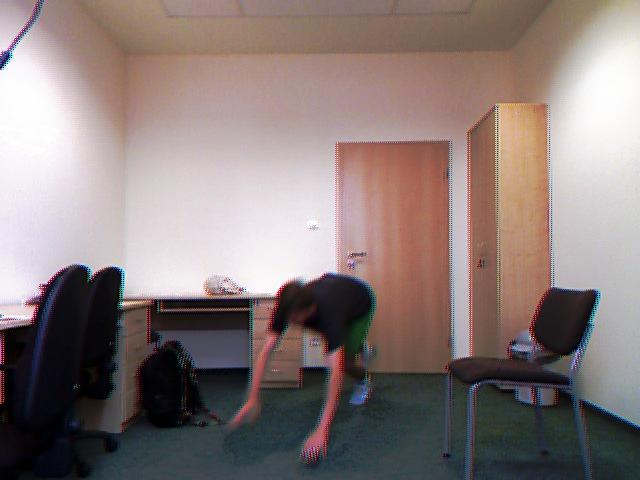near-fall: (222, 270, 398, 471)
